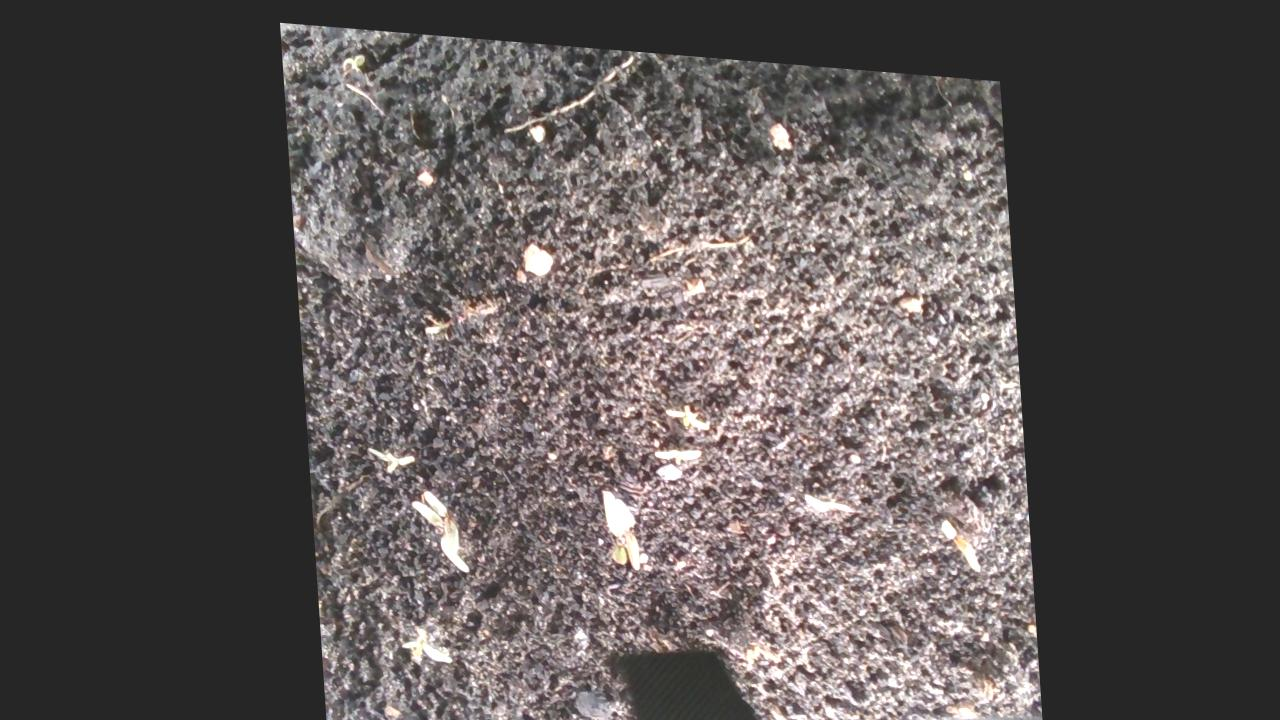weed: (389, 626, 446, 674)
